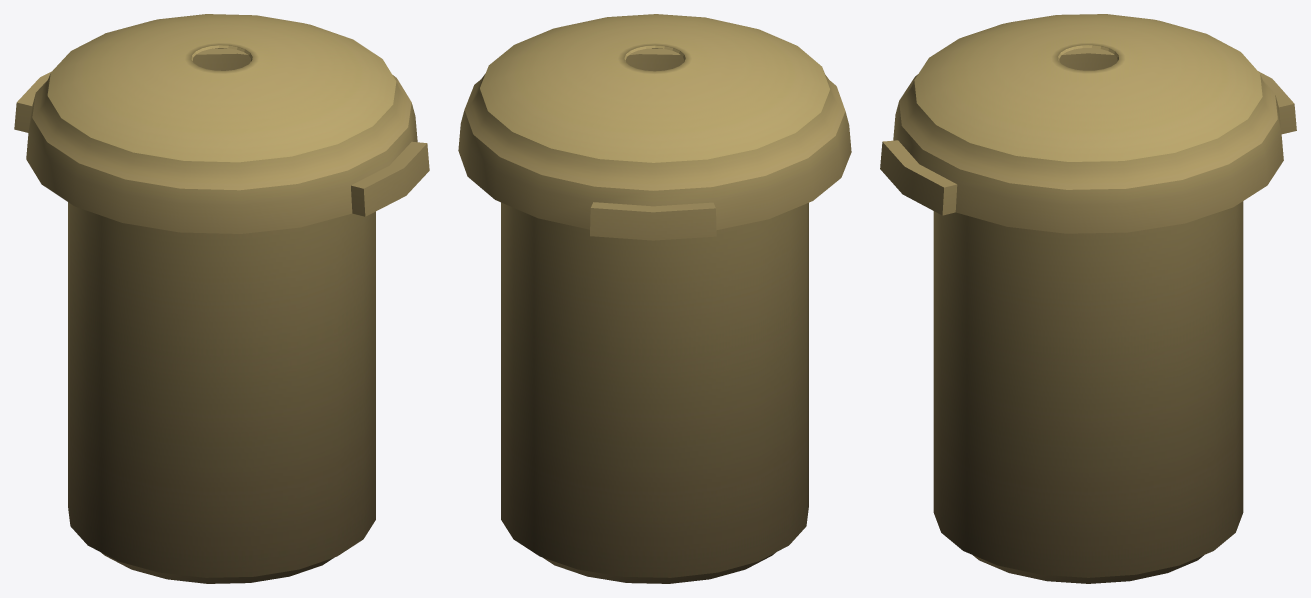
The model's file is trashcanplastic.glb.
3 views of the same model, side by side, from view 1: azimuth 30°, elevation 25°; view 2: azimuth 150°, elevation 25°; view 3: azimuth 270°, elevation 25° (orthographic).
Parts seen in each view (by area): view 1: polySurface1, pSphere1; view 2: polySurface1, pSphere1; view 3: polySurface1, pSphere1.
Part boxes in pixels (x1=…): polySurface1: x1=68, y1=48, x2=375, y2=583; pSphere1: x1=14, y1=14, x2=429, y2=233; polySurface1: x1=501, y1=48, x2=808, y2=583; pSphere1: x1=458, y1=14, x2=851, y2=240; polySurface1: x1=933, y1=48, x2=1243, y2=583; pSphere1: x1=880, y1=14, x2=1296, y2=233.
Bounding box in the file's own units: 0.2987 × 0.3955 × 0.3186.
1 material, 1 textured.
